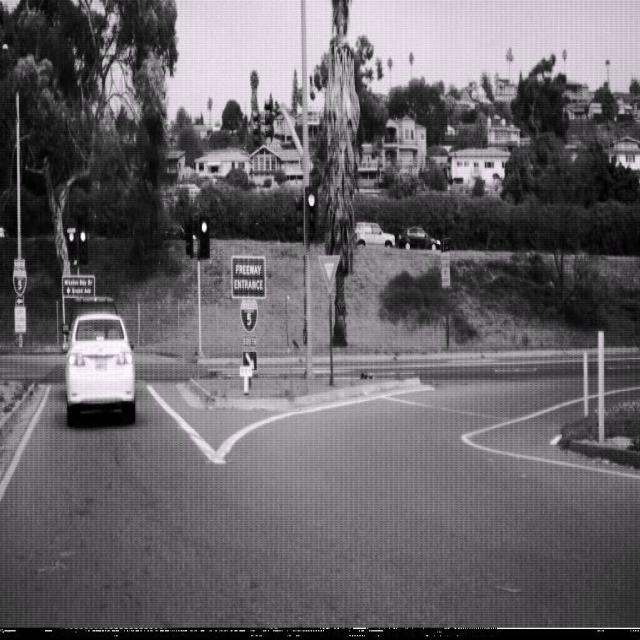yield: (318, 252, 340, 292)
